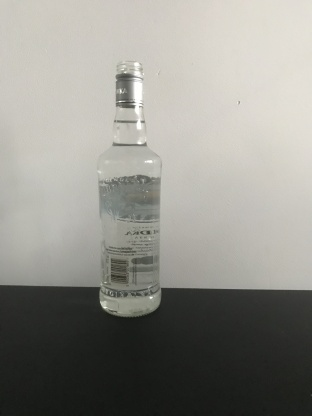nakretka: (113, 61, 145, 109)
